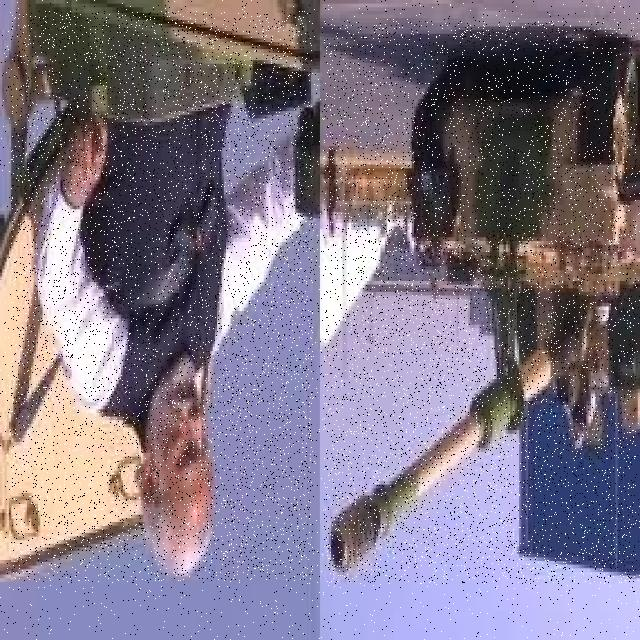MIL_MBT: (324, 21, 636, 584), (12, 11, 313, 580)
